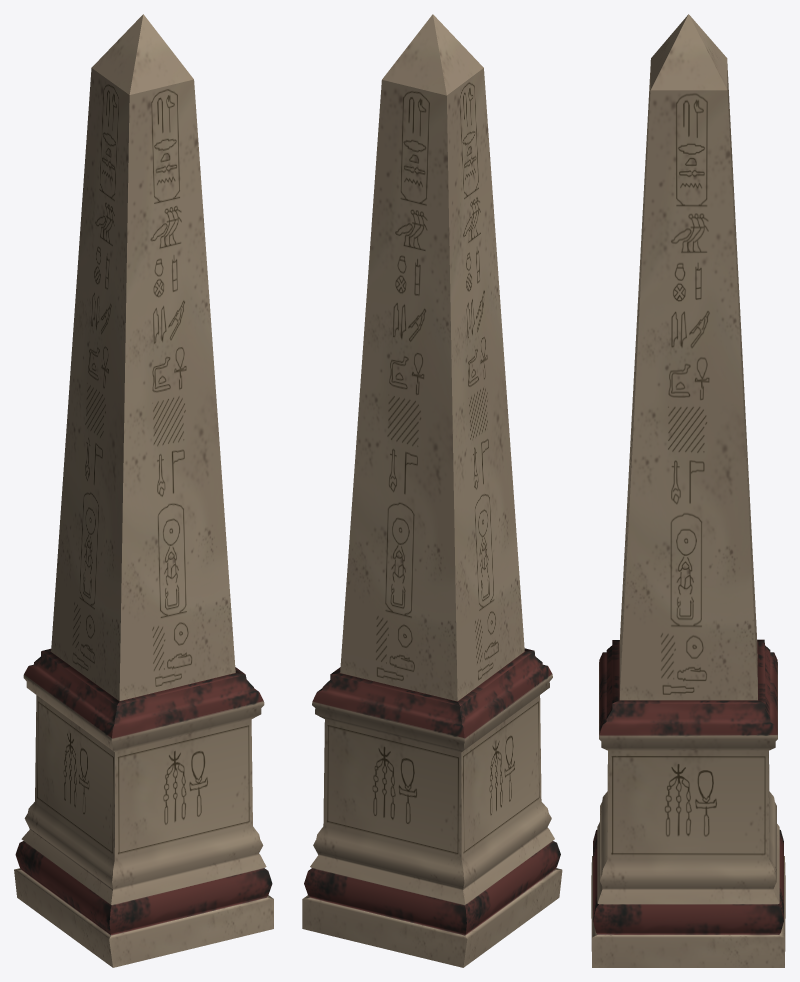
The model's file is obelisk.glb.
The picture shows the model from 3 angles, left to right: view 1: azimuth 30°, elevation 25°; view 2: azimuth 150°, elevation 25°; view 3: azimuth 270°, elevation 25°; orthographic projection.
Parts seen in each view (by area): view 1: pCube1; view 2: pCube1; view 3: pCube1.
Part boxes in pixels (x1,y1,x2,y2): pCube1: (14,14,273,967); pCube1: (302,14,562,967); pCube1: (591,14,785,967).
Size of the model in its own units: 1.06 by 5.56 by 1.07.
Materials: 1 (1 with a texture image).
